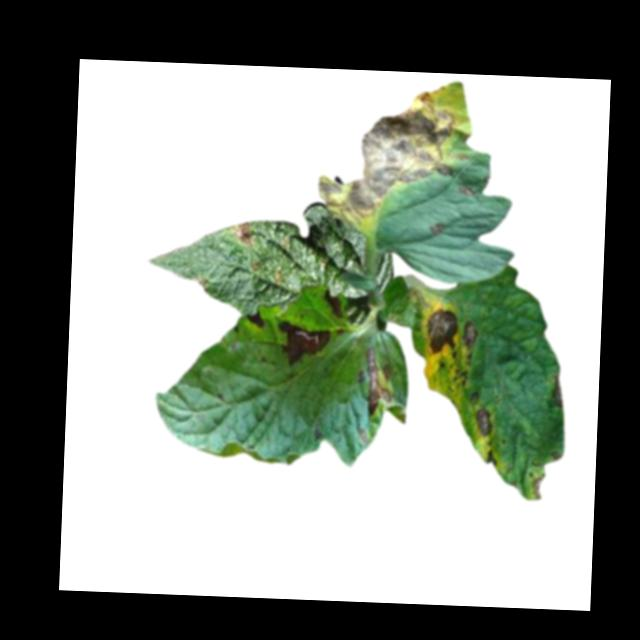Early_blight: (317, 78, 457, 222), (277, 318, 333, 369), (357, 344, 395, 417), (424, 305, 459, 359), (473, 406, 496, 436), (323, 289, 346, 319), (530, 469, 549, 500), (233, 220, 254, 247), (244, 305, 267, 329), (461, 320, 479, 350), (549, 371, 565, 400), (428, 220, 444, 238), (459, 181, 477, 197)
